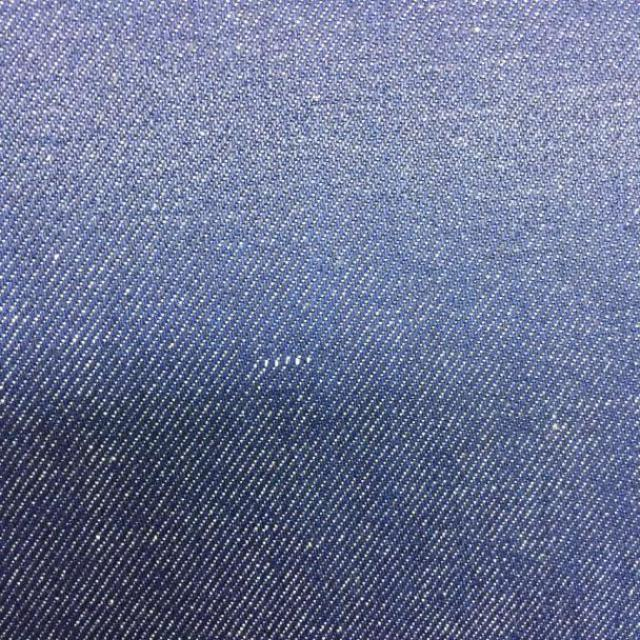Knot: (254, 355, 312, 370)
